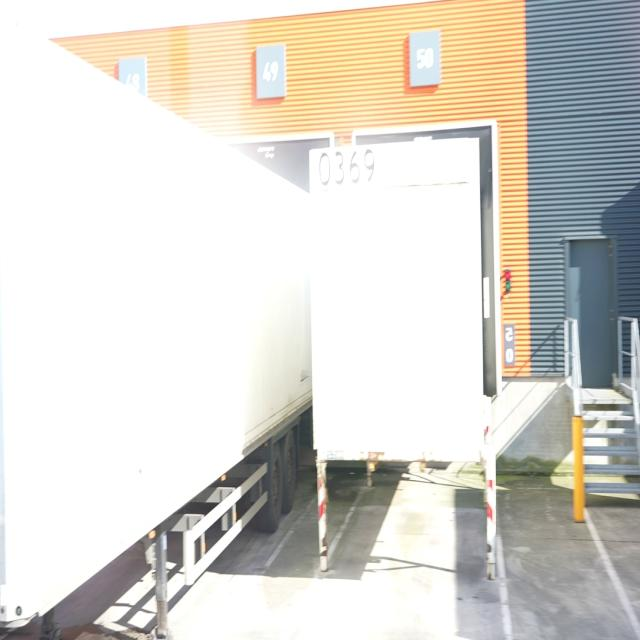Code: (316, 142, 382, 193)
